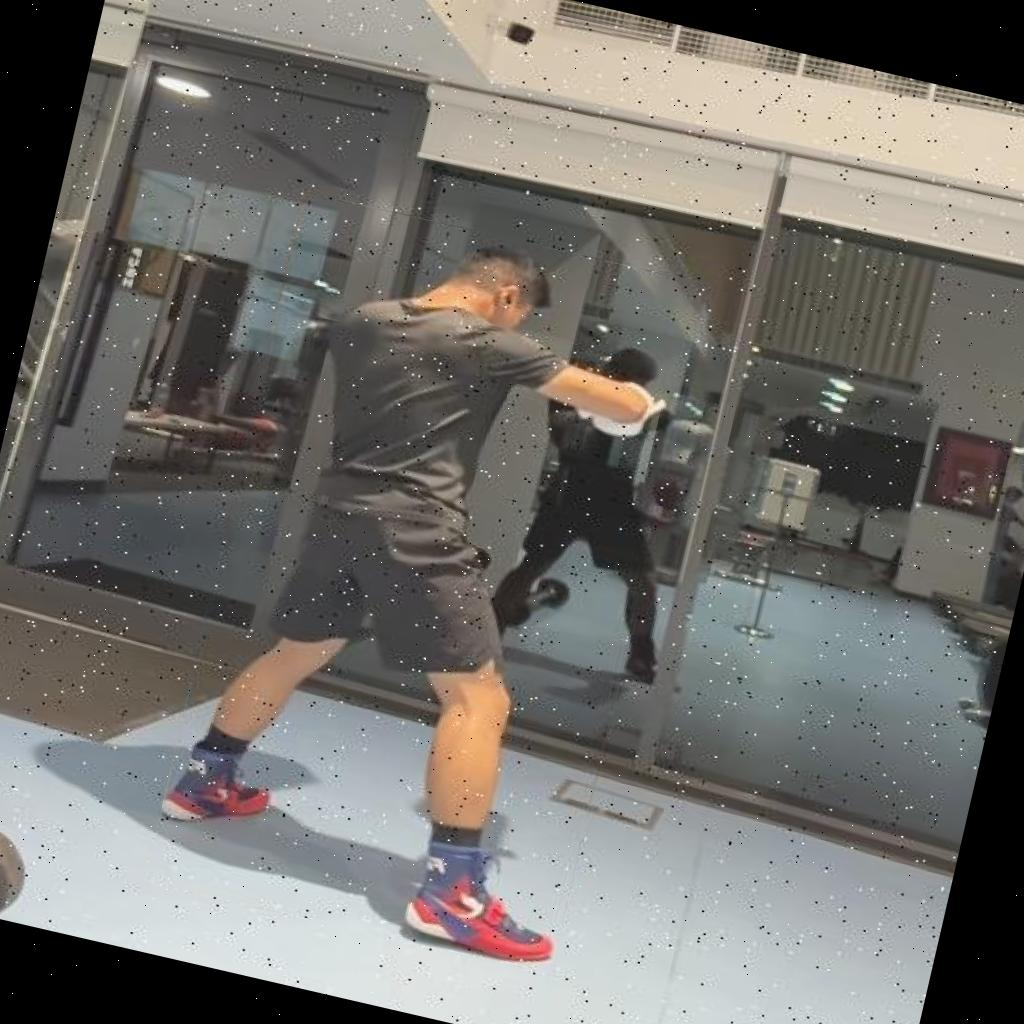hook: (145, 192, 710, 974)
